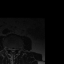CCS_stenosis: (12, 47, 13, 53)
LFS_normal: (15, 46, 17, 51)
LLS_normal: (13, 47, 15, 52)
RFS_normal: (7, 45, 9, 51)
RLS_normal: (9, 47, 12, 52)
